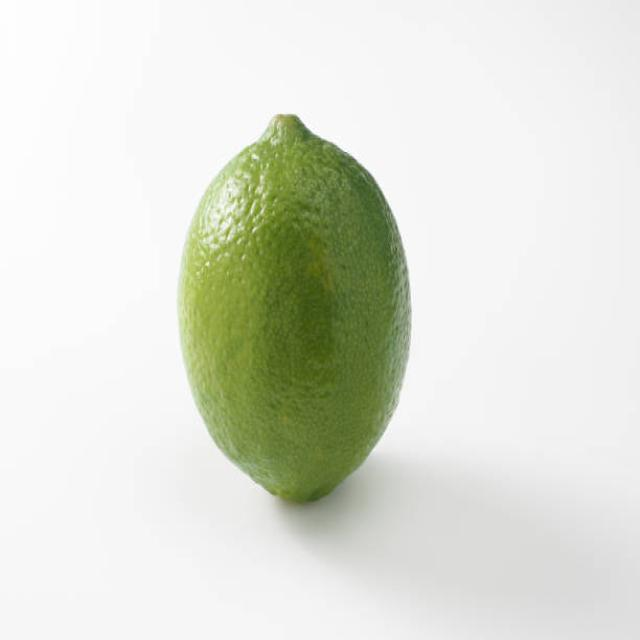Lemon: (177, 108, 413, 504)
